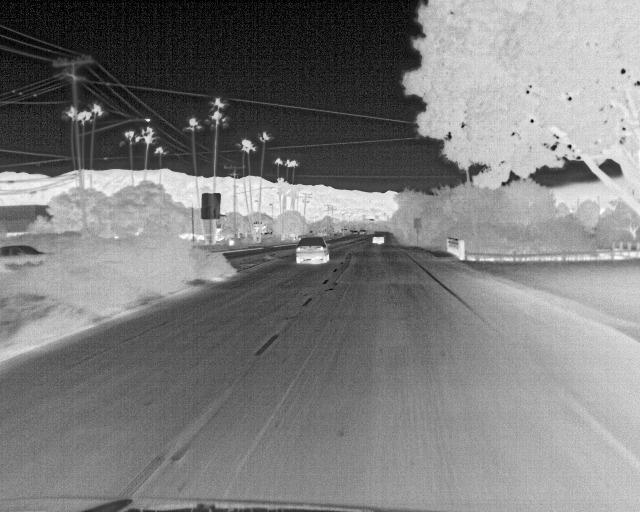car: (0, 243, 46, 273), (291, 234, 331, 266), (368, 230, 388, 247)
